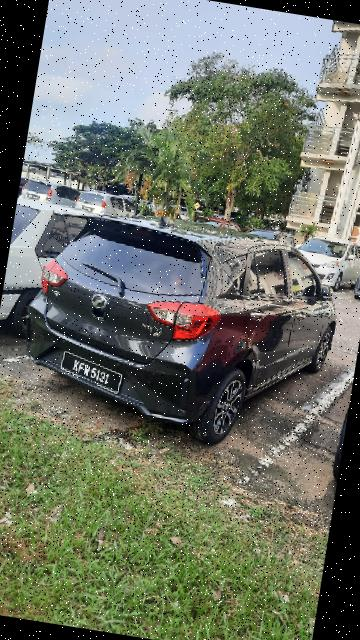License_Plate: (50, 345, 132, 402)
car: (23, 191, 357, 465)
